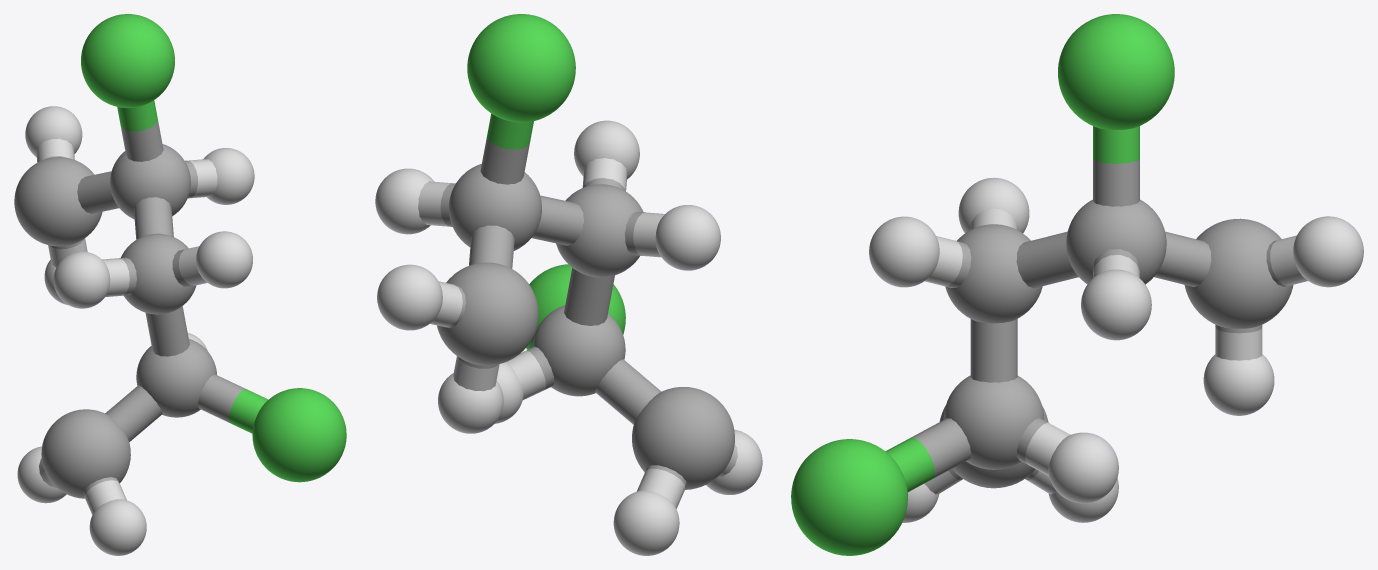
Rendered from pvc.glb.
The picture shows the model from 3 angles, left to right: view 1: azimuth 30°, elevation 25°; view 2: azimuth 150°, elevation 25°; view 3: azimuth 270°, elevation 25°; orthographic projection. The views are drawn at different scales.
Visible parts, largest first — view 1: atoms, bonds; view 2: atoms, bonds; view 3: atoms, bonds.
Part boxes in pixels (box(x1,y1,x2,y2)): atoms: box(14, 14, 346, 555); bonds: box(36, 100, 268, 514); atoms: box(375, 14, 762, 555); bonds: box(418, 113, 737, 508); atoms: box(791, 14, 1363, 555); bonds: box(885, 126, 1307, 494).
Bounding box in the file's own units: 0.7913 × 1.34 × 1.25.
